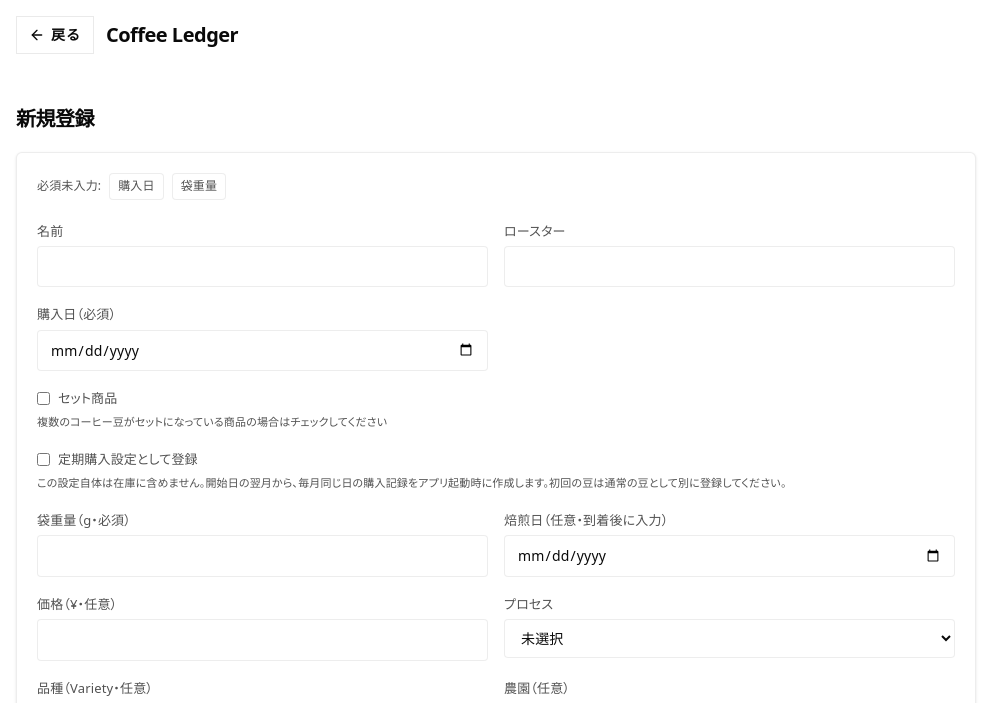
labels optional fields and announces missing required fields
Expected: the message shows "必須未入力", [37, 177, 101, 194]
Select "その他（手入力）" in the dropdown labelled "プロセス" at (730, 638), box [504, 619, 955, 658]
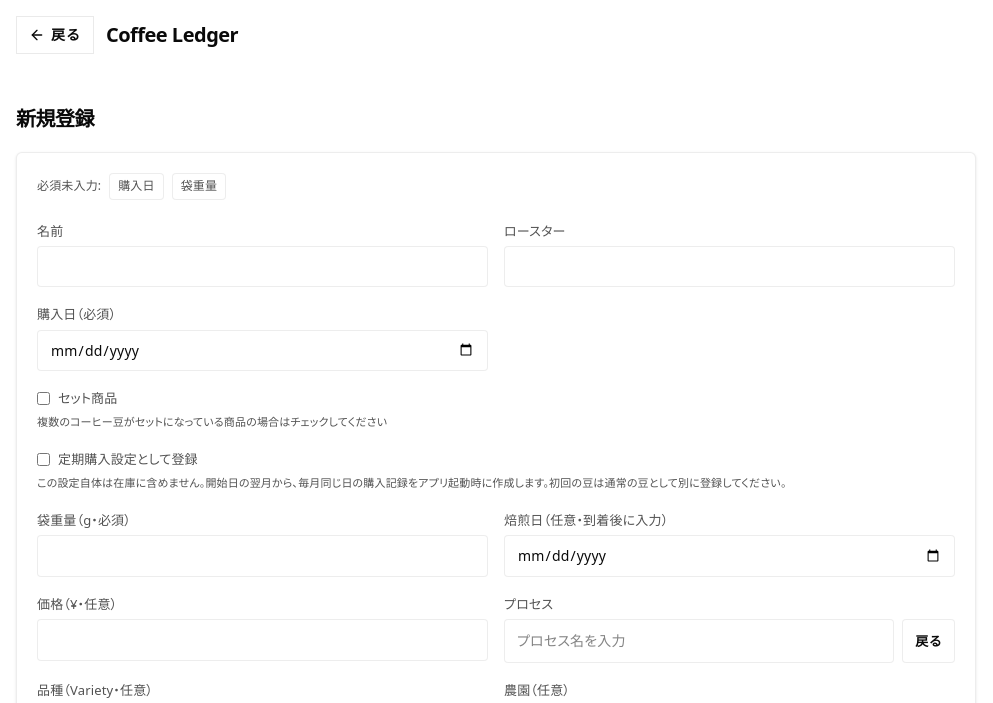
Now the field labelled "プロセス" is shown, box [504, 619, 894, 663]
